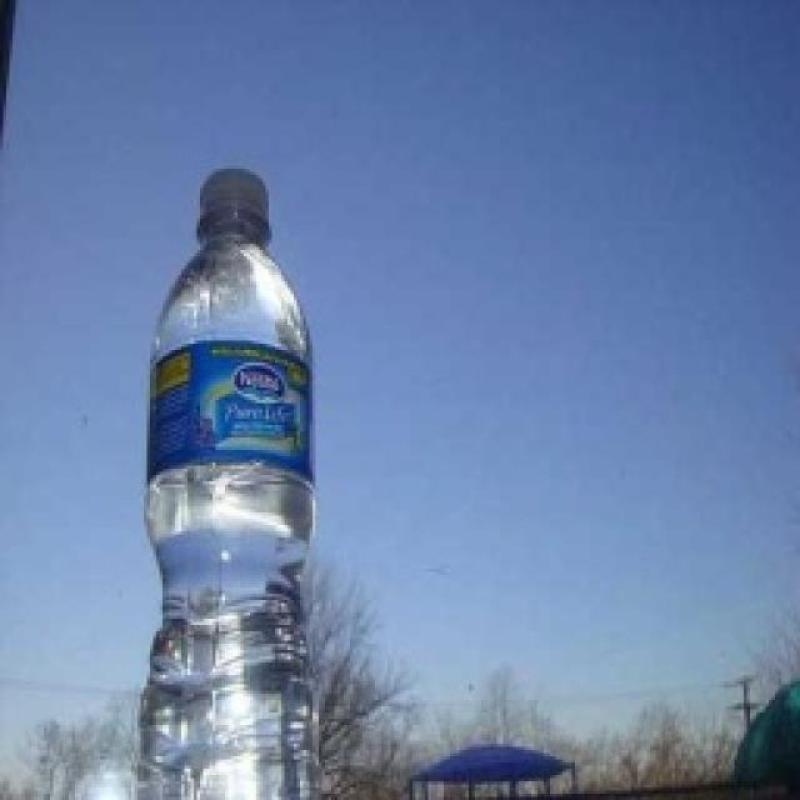botella: (140, 165, 325, 800)
